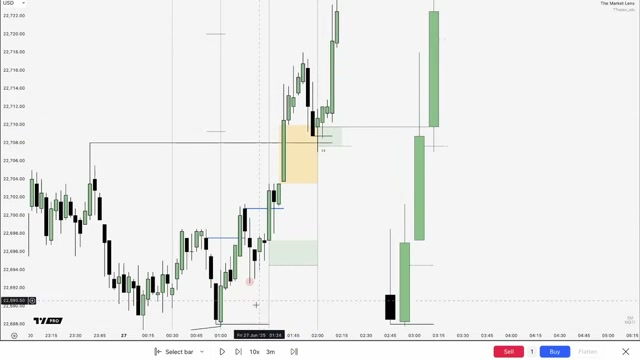protected_swing: (278, 124, 319, 184)
